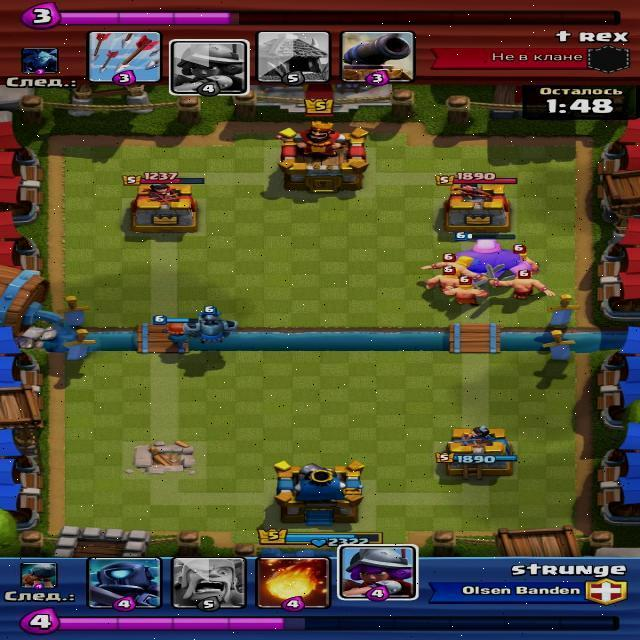EBarb: (492, 273, 560, 303), (419, 256, 483, 276), (448, 278, 485, 307), (419, 271, 467, 293), (512, 251, 546, 276)
EKingTower: (279, 121, 366, 191)
EnemyPrincessTower: (443, 179, 511, 232), (129, 180, 198, 231)
OGiant: (460, 235, 516, 272)
OMegam: (185, 306, 236, 348)
OValk: (147, 314, 195, 360)
OwnKingTower: (277, 461, 364, 524)
OwnPrincessTower: (452, 428, 512, 476)
TowerDown: (116, 438, 205, 478)
